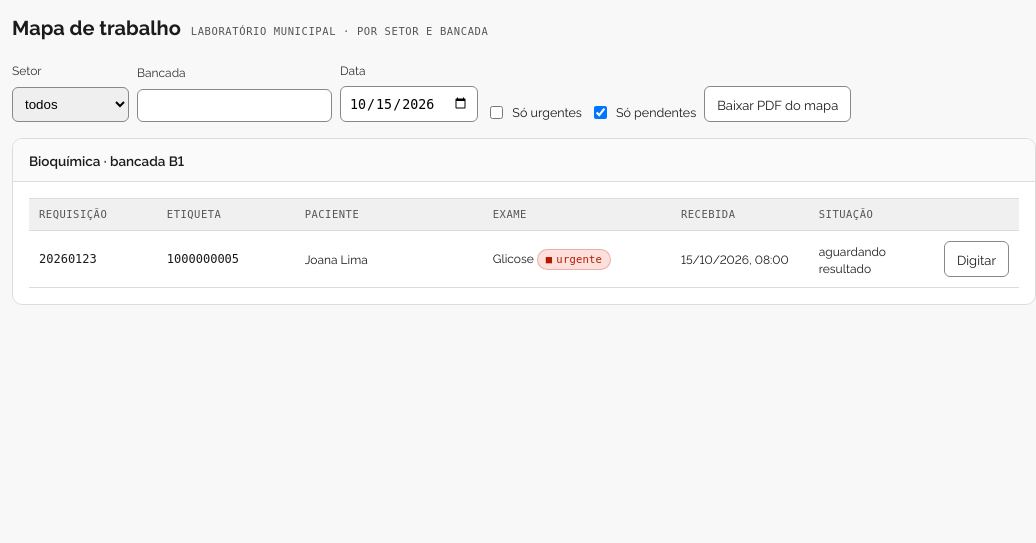
Scenario: LabWorklist › digitar pelo mapa abre o formulário do item
Step 1. Click the button "Digitar" → (976, 259), box x1=944 y1=241 x2=1009 y2=277
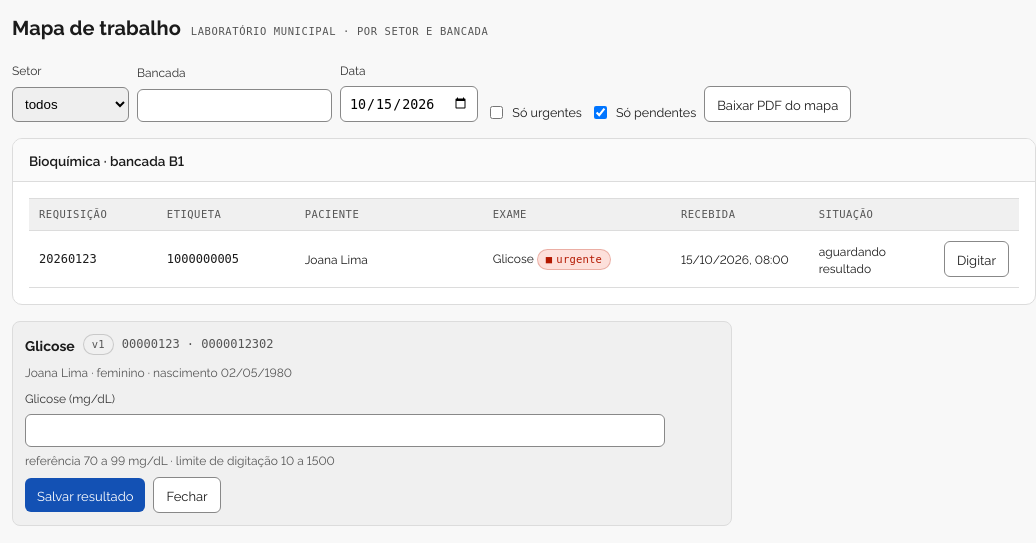
expect the field labelled "Glicose (mg/dL)" is shown: met, box x1=25 y1=414 x2=665 y2=447
